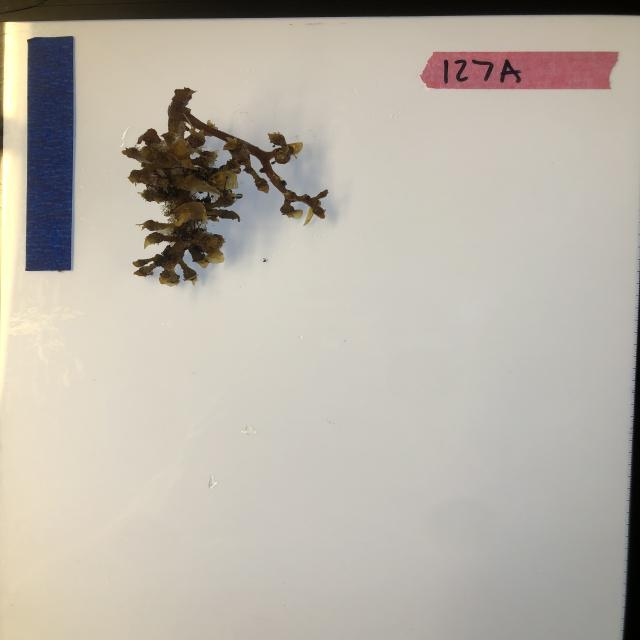index: (420, 48, 620, 92)
measure_label: (26, 34, 74, 272)
rachis_cluster: (121, 85, 334, 289)
